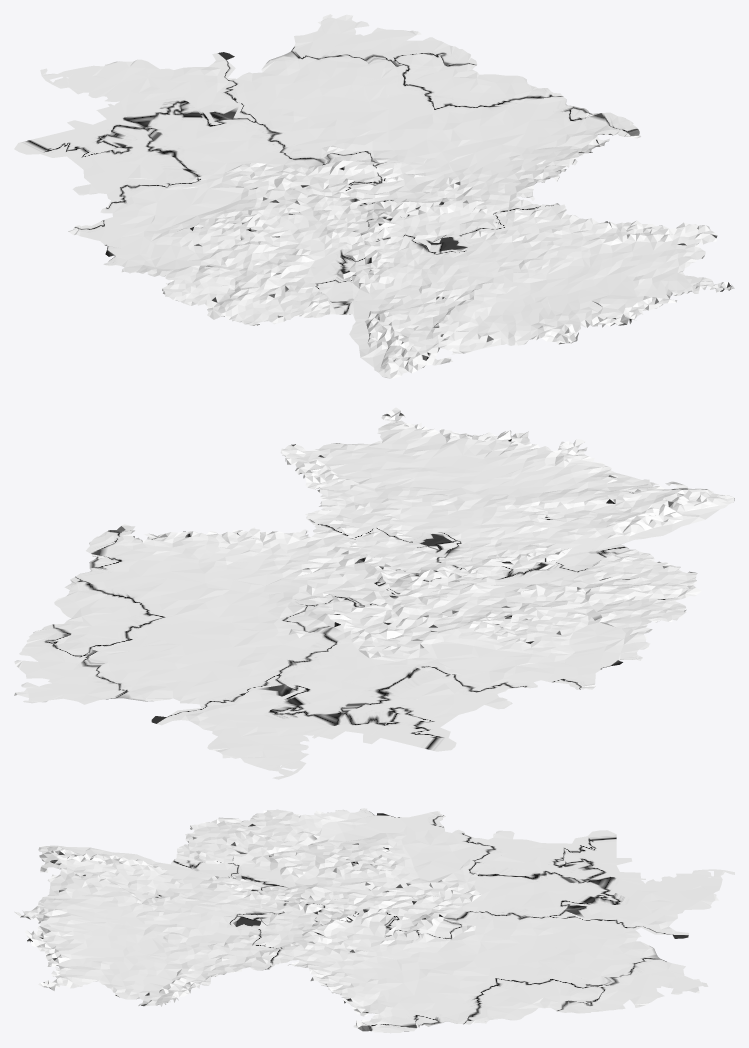
Rendered from 3DNutsMapping.obj.
3 views of the same model, one above another, from view 1: azimuth 30°, elevation 25°; view 2: azimuth 150°, elevation 25°; view 3: azimuth 270°, elevation 25° (orthographic). The views are drawn at different scales.
Visible parts, largest first — view 1: output_208.001; view 2: output_208.001; view 3: output_208.001.
Part boxes in pixels (x1,y1,x2,y2): output_208.001: (14, 14, 734, 378); output_208.001: (14, 407, 734, 779); output_208.001: (14, 808, 734, 1033).
Size of the model in its own units: 3.2 by 0.0698 by 4.32.
